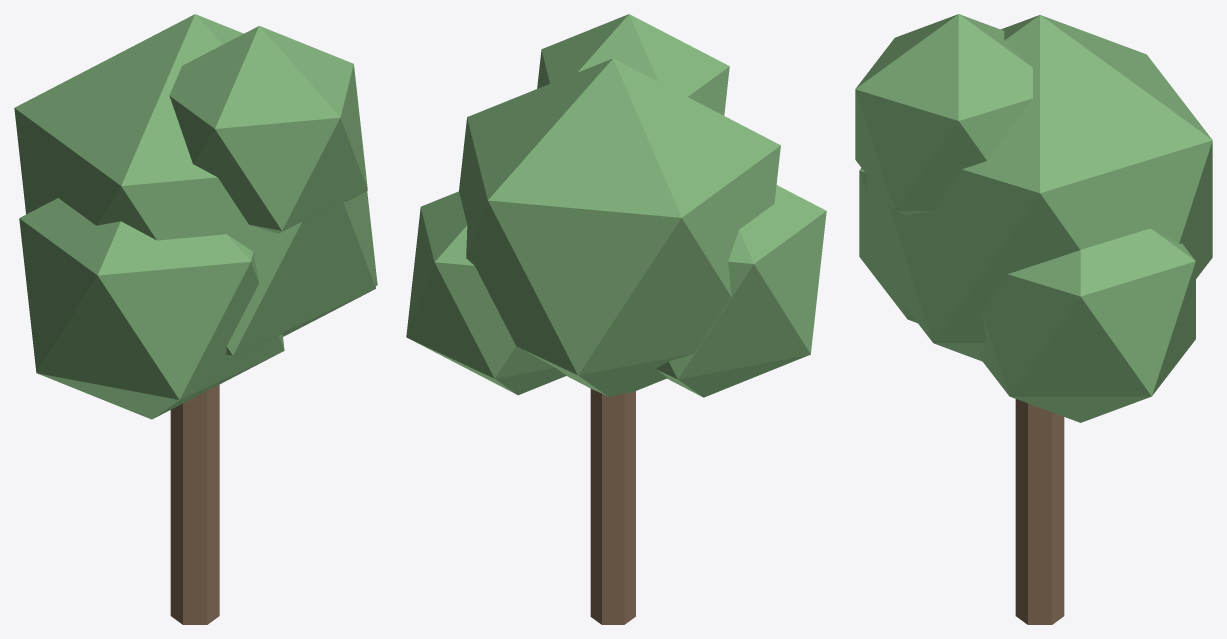
Rendered from tree.glb.
3 renders of one model, left to right at view 1: azimuth 30°, elevation 25°; view 2: azimuth 150°, elevation 25°; view 3: azimuth 270°, elevation 25°, orthographic. The views are drawn at different scales.
Parts seen in each view (by area): view 1: leaves, leaves.002, leaves.003, trunk; view 2: leaves, leaves.002, leaves.001, trunk, leaves.003; view 3: leaves, leaves.001, leaves.003, trunk, leaves.002.
Boxes of the visible parts, x1,y1,x2,y2 form: leaves: [14, 14, 375, 357]; leaves.002: [19, 198, 284, 419]; leaves.003: [169, 26, 367, 233]; trunk: [170, 384, 219, 624]; leaves: [459, 58, 780, 396]; leaves.002: [656, 185, 826, 397]; leaves.001: [406, 191, 566, 395]; trunk: [590, 389, 635, 624]; leaves.003: [537, 14, 729, 115]; leaves: [867, 15, 1212, 361]; leaves.001: [979, 228, 1195, 422]; leaves.003: [855, 14, 1032, 215]; trunk: [1015, 399, 1064, 624]; leaves.002: [859, 168, 917, 322].
Size of the model in its own units: 3.18 by 5 by 2.64.
